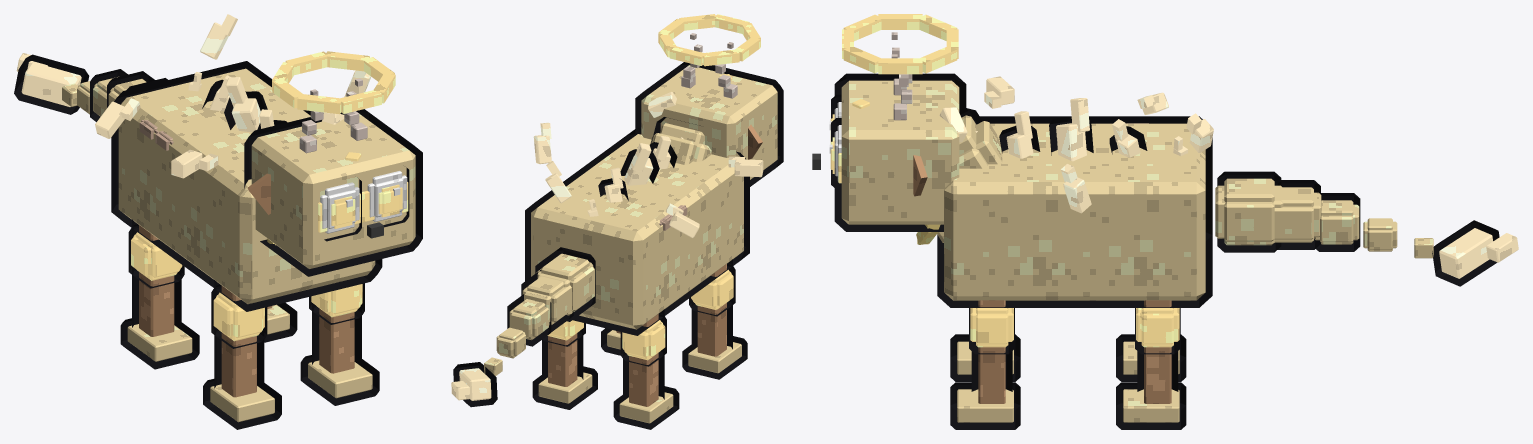
Rendered from boss_02.glb.
3 views of the same model, side by side, from view 1: azimuth 30°, elevation 25°; view 2: azimuth 150°, elevation 25°; view 3: azimuth 270°, elevation 25° (orthographic). The views are drawn at different scales.
Visible parts, largest first — view 1: model; view 2: model; view 3: model.
Boxes of the visible parts, <box> form: model: <box>14,14,422,429</box>; model: <box>451,14,783,429</box>; model: <box>812,14,1518,429</box>.
Bounding box in the file's own units: 1.27 × 1.81 × 3.24.
Materials: 10 (9 with a texture image).
